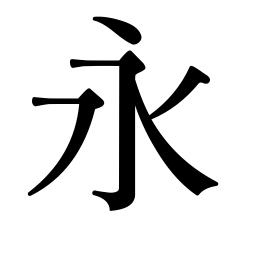D: (90, 12, 146, 45)
HSZ: (108, 49, 147, 80)
Hs: (68, 55, 98, 71)
Ne: (179, 165, 224, 199)
PNc: (137, 97, 165, 130)
PZe: (26, 176, 54, 197)
Ps: (181, 63, 212, 90)
SG: (90, 180, 139, 213)
Sm: (115, 134, 139, 164)
TPZ: (67, 87, 106, 127)
Ts: (29, 92, 56, 108)
